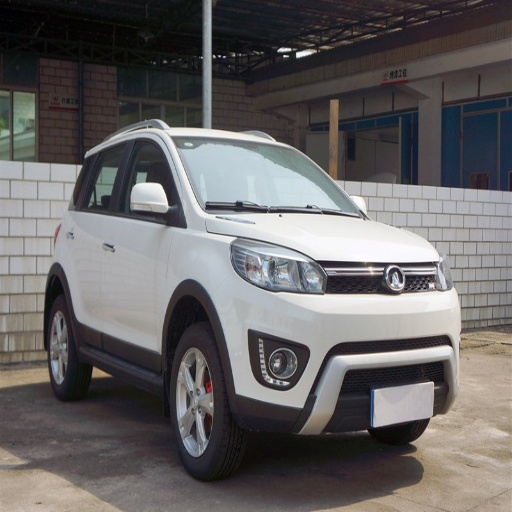front_bumper: (218, 261, 462, 441)
front_right_door: (103, 131, 180, 366)
front_right_light: (233, 239, 328, 294)
